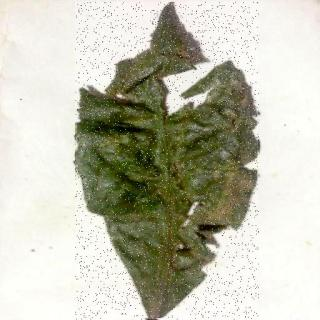Red Leaf Spot: (77, 3, 261, 320)
